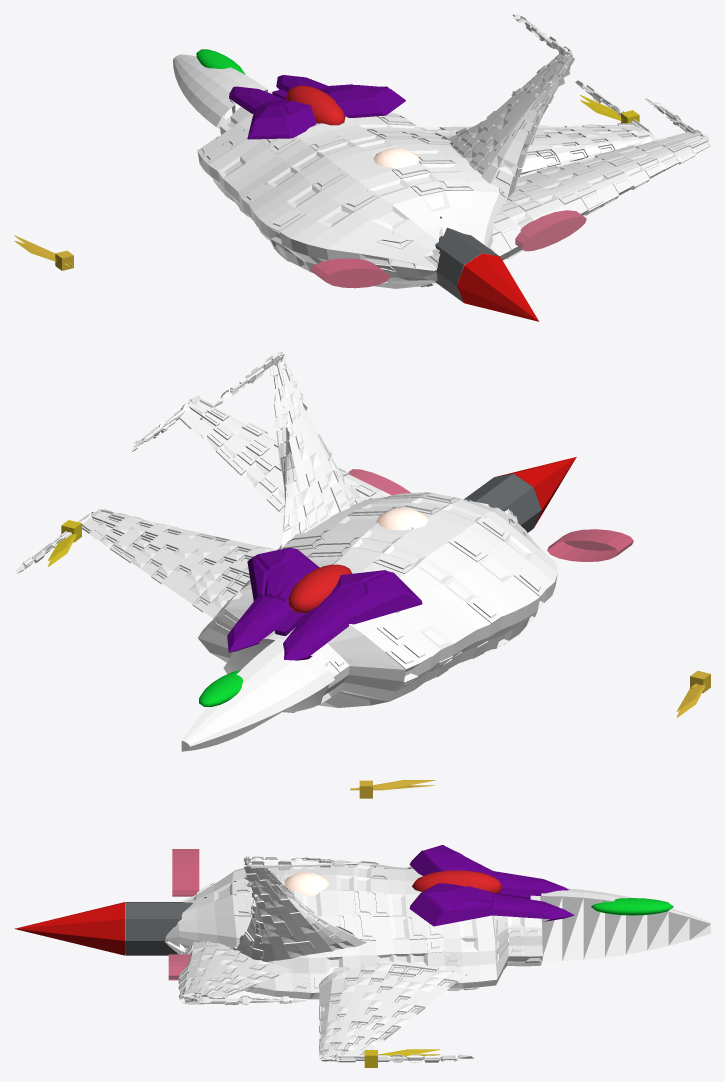
Rendered from ship2.gltf.
3 views of the same model, one above another, from view 1: azimuth 30°, elevation 25°; view 2: azimuth 150°, elevation 25°; view 3: azimuth 270°, elevation 25° (orthographic). The views are drawn at different scales.
Parts seen in each view (by area): view 1: Spacecraft_139, Wing_2_STANDARD, Wing_3_ENHANCED, Cockpit_DOUBLE, Wing_1_STANDARD, Nose_CONE, Component_BURNING_FLAME_3, Component_MISSILE_7, Thruster_2, Thruster_1, Component_SPHERE_5, Component_SAUCER_4 (+3 smaller); view 2: Spacecraft_139, Cockpit_DOUBLE, Wing_1_STANDARD, Wing_3_ENHANCED, Nose_CONE, Wing_2_STANDARD, Component_MISSILE_7, Thruster_1, Component_SPHERE_5, Component_BURNING_FLAME_3, Component_SPHERE_6, Component_SAUCER_4 (+3 smaller); view 3: Spacecraft_139, Wing_1_STANDARD, Nose_CONE, Wing_3_ENHANCED, Cockpit_DOUBLE, Wing_2_STANDARD, Component_BURNING_FLAME_3, Component_MISSILE_7, Thruster_1, Component_SPHERE_5, Component_SPHERE_6, Component_SAUCER_4 (+3 smaller).
Part boxes in pixels (x1,y1,x2,y2): Spacecraft_139: [197, 90, 508, 288]; Wing_2_STANDARD: [490, 98, 710, 260]; Wing_3_ENHANCED: [446, 14, 574, 203]; Cockpit_DOUBLE: [229, 75, 405, 139]; Wing_1_STANDARD: [418, 80, 655, 174]; Nose_CONE: [173, 54, 267, 129]; Component_BURNING_FLAME_3: [456, 253, 539, 321]; Component_MISSILE_7: [435, 216, 499, 302]; Thruster_2: [515, 210, 586, 251]; Thruster_1: [311, 258, 389, 288]; Component_SPHERE_5: [286, 85, 345, 125]; Component_SAUCER_4: [373, 148, 419, 168]; Spacecraft_139: [198, 492, 557, 712]; Cockpit_DOUBLE: [227, 547, 422, 660]; Wing_1_STANDARD: [14, 509, 276, 618]; Wing_3_ENHANCED: [214, 350, 363, 547]; Nose_CONE: [181, 638, 334, 751]; Wing_2_STANDARD: [128, 395, 391, 515]; Component_MISSILE_7: [464, 473, 541, 532]; Thruster_1: [547, 529, 633, 561]; Component_SPHERE_5: [288, 564, 351, 613]; Component_BURNING_FLAME_3: [494, 457, 576, 527]; Component_SPHERE_6: [199, 670, 243, 706]; Component_SAUCER_4: [376, 508, 428, 530]; Spacecraft_139: [125, 857, 542, 999]; Wing_1_STANDARD: [319, 961, 473, 1062]; Nose_CONE: [541, 888, 710, 961]; Wing_3_ENHANCED: [233, 855, 366, 961]; Cockpit_DOUBLE: [409, 845, 574, 926]; Wing_2_STANDARD: [178, 941, 305, 1005]; Component_BURNING_FLAME_3: [14, 902, 125, 955]; Component_MISSILE_7: [125, 897, 206, 955]; Thruster_1: [172, 849, 199, 896]; Component_SPHERE_5: [412, 870, 502, 893]; Component_SPHERE_6: [591, 898, 673, 915]; Component_SAUCER_4: [285, 872, 328, 896].
Size of the model in its own units: 12.23 by 3.97 by 12.89.
